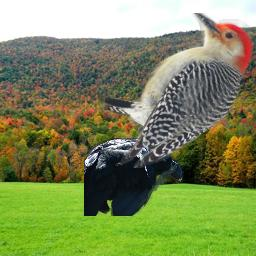Crow: (84, 138, 184, 216)
Woodpecker: (98, 13, 253, 168)
